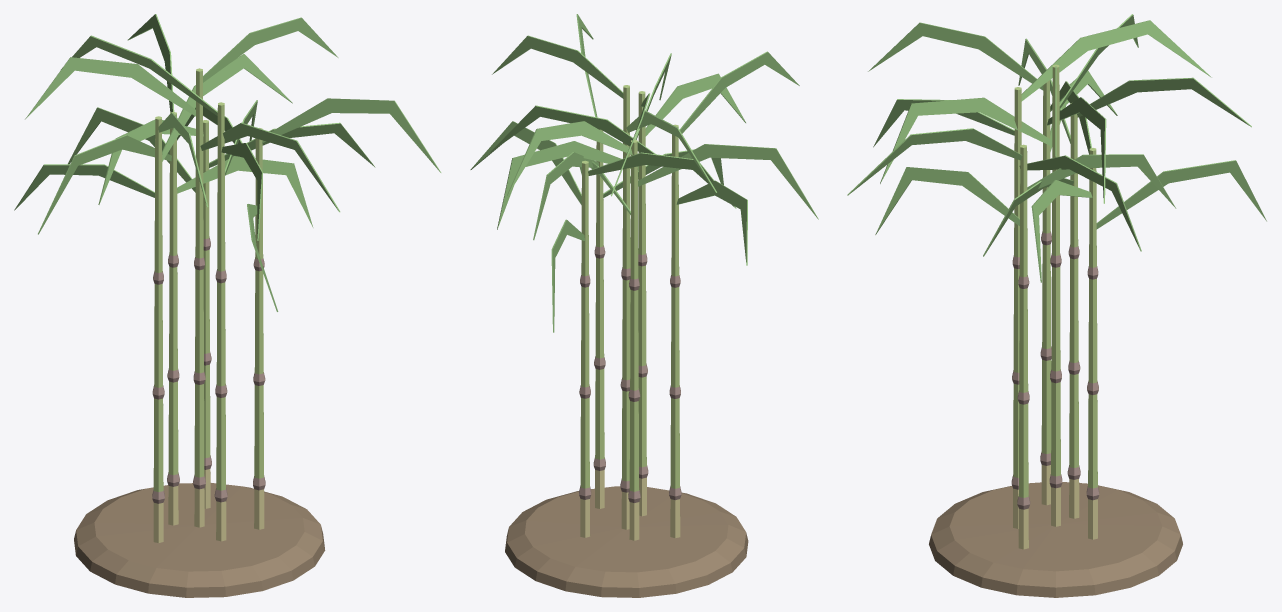
Rendered from 33-Agricultura_canaveral.glb.
3 views of the same model, side by side, from view 1: azimuth 30°, elevation 25°; view 2: azimuth 150°, elevation 25°; view 3: azimuth 270°, elevation 25° (orthographic). The views are drawn at different scales.
Parts seen in each view (by area): view 1: SM_Canaveral_M_Canaveral_Verde_Canaveral_Nudo_Canaveral_Seco, SM_Canaveral_M_Canaveral_Tierra; view 2: SM_Canaveral_M_Canaveral_Verde_Canaveral_Nudo_Canaveral_Seco, SM_Canaveral_M_Canaveral_Tierra; view 3: SM_Canaveral_M_Canaveral_Verde_Canaveral_Nudo_Canaveral_Seco, SM_Canaveral_M_Canaveral_Tierra.
Part boxes in pixels (<box>): SM_Canaveral_M_Canaveral_Verde_Canaveral_Nudo_Canaveral_Seco: <box>14,14,441,543</box>; SM_Canaveral_M_Canaveral_Tierra: <box>74,483,325,597</box>; SM_Canaveral_M_Canaveral_Verde_Canaveral_Nudo_Canaveral_Seco: <box>470,14,818,540</box>; SM_Canaveral_M_Canaveral_Tierra: <box>505,486,748,597</box>; SM_Canaveral_M_Canaveral_Verde_Canaveral_Nudo_Canaveral_Seco: <box>847,14,1266,549</box>; SM_Canaveral_M_Canaveral_Tierra: <box>929,482,1182,597</box>.
Bounding box in the file's own units: 1.75 × 2.41 × 1.82.
